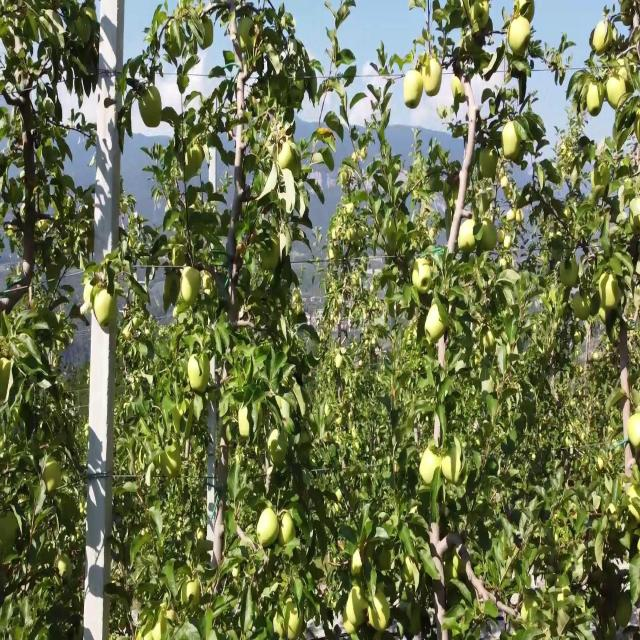apple: (140, 85, 164, 128), (188, 355, 211, 395), (508, 21, 532, 59), (424, 56, 444, 100), (420, 447, 443, 485), (0, 511, 20, 553), (504, 120, 523, 164), (372, 590, 391, 633), (404, 71, 424, 110), (600, 277, 623, 308), (260, 511, 279, 548), (412, 263, 433, 295), (592, 21, 610, 57), (428, 305, 445, 343), (96, 291, 116, 322), (184, 270, 200, 308), (280, 511, 296, 548), (480, 149, 499, 180), (164, 447, 183, 478), (560, 263, 580, 292), (352, 547, 369, 581), (272, 433, 288, 469), (284, 611, 304, 639), (280, 142, 299, 171), (588, 85, 604, 119), (44, 462, 61, 494), (188, 142, 204, 176), (264, 241, 280, 274), (608, 78, 625, 108), (628, 412, 640, 453), (184, 583, 202, 610), (200, 21, 216, 50), (616, 597, 632, 626), (460, 227, 476, 256), (176, 412, 194, 437), (168, 440, 183, 469), (164, 277, 180, 304), (280, 142, 294, 171), (484, 220, 496, 252), (468, 35, 483, 60), (172, 248, 188, 270), (588, 291, 601, 318), (292, 85, 305, 110), (472, 7, 489, 25), (600, 305, 615, 325), (292, 78, 305, 101), (204, 270, 215, 295), (156, 618, 169, 639), (576, 298, 588, 320), (452, 78, 464, 100), (272, 28, 284, 50), (196, 533, 208, 555), (500, 163, 509, 190), (156, 447, 167, 469), (633, 199, 640, 233), (624, 7, 635, 28), (164, 604, 176, 622), (164, 284, 173, 308), (292, 149, 300, 176), (176, 298, 188, 316), (508, 7, 521, 23), (600, 305, 611, 322), (344, 618, 355, 633), (276, 618, 284, 638), (456, 120, 463, 142), (508, 206, 516, 224), (196, 533, 207, 546), (504, 177, 510, 199), (460, 85, 466, 105), (332, 248, 339, 263), (352, 277, 360, 290), (504, 186, 511, 199), (500, 227, 505, 245), (348, 206, 356, 217), (636, 120, 640, 142), (576, 334, 582, 343)
